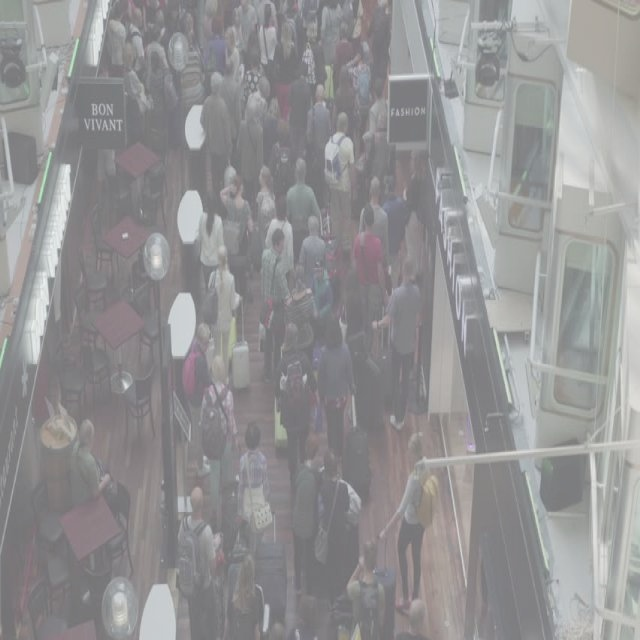pessoa: (377, 428, 440, 616), (371, 256, 422, 432), (197, 352, 239, 531), (274, 321, 318, 491), (176, 482, 220, 638), (350, 198, 390, 366), (181, 318, 219, 482), (236, 418, 272, 590), (312, 449, 350, 607), (316, 317, 358, 459), (198, 70, 234, 230), (218, 174, 256, 324), (289, 428, 320, 599), (206, 242, 242, 388), (258, 226, 290, 386), (284, 156, 324, 268), (68, 418, 116, 511), (357, 174, 393, 298), (344, 534, 386, 638), (326, 110, 356, 242), (378, 172, 409, 299), (284, 261, 320, 368), (304, 82, 333, 210), (150, 48, 180, 171), (121, 39, 155, 138), (195, 186, 225, 298), (225, 552, 263, 639), (345, 44, 373, 159), (235, 95, 265, 201), (365, 0, 393, 102), (272, 20, 298, 126), (177, 1, 202, 111), (264, 194, 296, 278), (220, 56, 243, 168), (202, 13, 230, 98), (256, 2, 278, 108), (308, 254, 334, 342), (290, 60, 312, 160), (298, 213, 327, 287), (118, 8, 146, 83), (254, 164, 278, 251), (360, 76, 388, 150), (270, 117, 299, 188), (237, 0, 260, 87), (317, 0, 345, 66), (334, 64, 356, 146), (402, 145, 426, 215), (242, 44, 262, 120), (261, 95, 282, 167), (298, 0, 316, 83), (244, 75, 272, 126), (395, 596, 428, 639), (340, 0, 358, 78), (257, 1, 278, 67), (150, 8, 171, 67), (334, 20, 354, 71), (224, 25, 242, 76), (230, 5, 248, 50), (244, 26, 259, 54), (280, 0, 299, 22), (222, 163, 238, 188)
